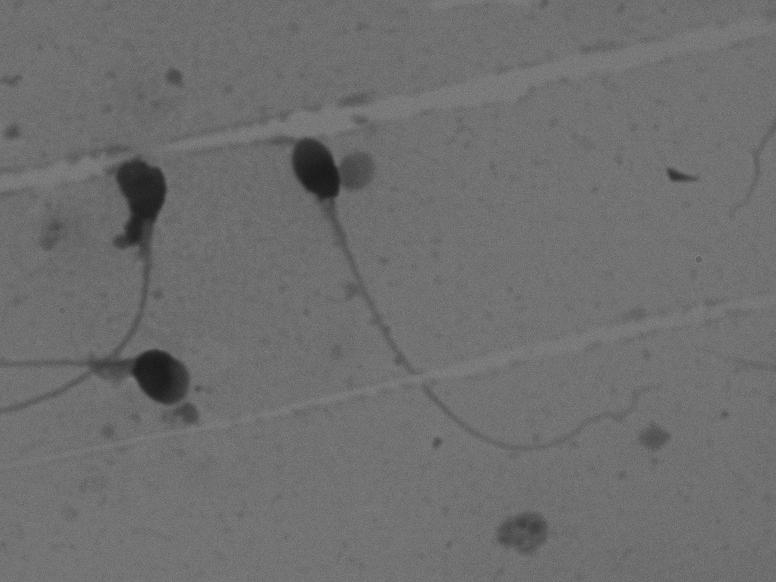Abnormal: (263, 99, 673, 514), (3, 140, 194, 425), (18, 304, 220, 453)
